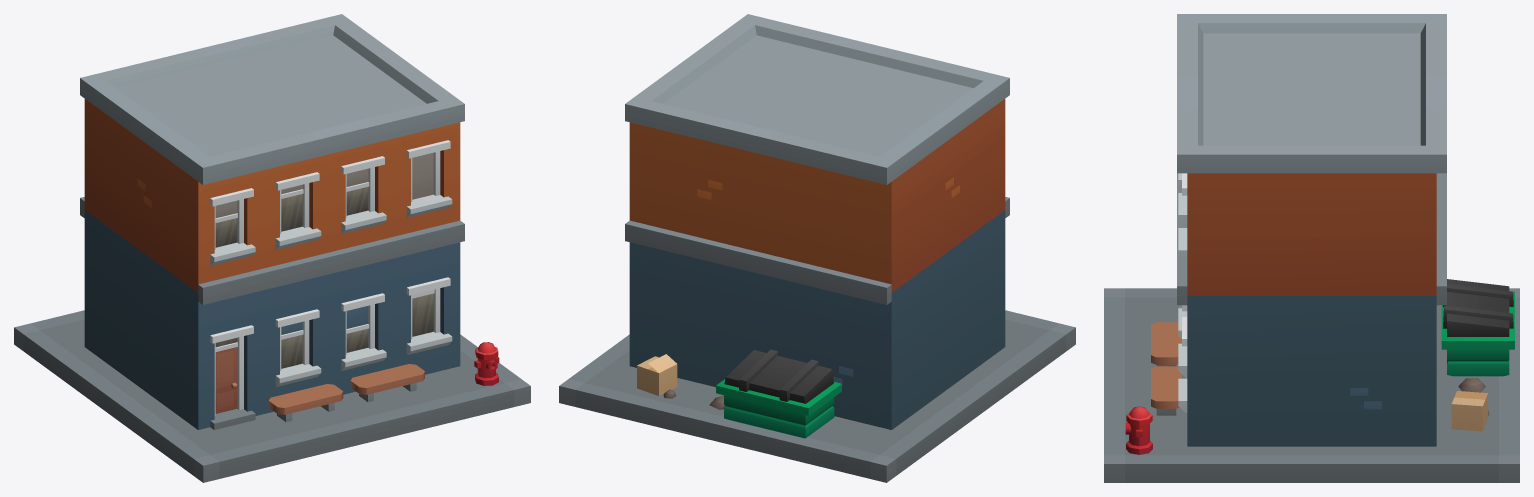
Rendered from building_b_free_model.glb.
3 renders of one model, left to right at view 1: azimuth 30°, elevation 25°; view 2: azimuth 150°, elevation 25°; view 3: azimuth 270°, elevation 25°, orthographic. The views are drawn at different scales.
Visible parts, largest first — view 1: building_B; view 2: building_B; view 3: building_B.
Part boxes in pixels (<box>): building_B: <box>14,14,530,482</box>; building_B: <box>559,14,1075,482</box>; building_B: <box>1104,14,1519,482</box>.
Size of the model in its own units: 2 by 1.65 by 2.
1 material, 1 textured.
